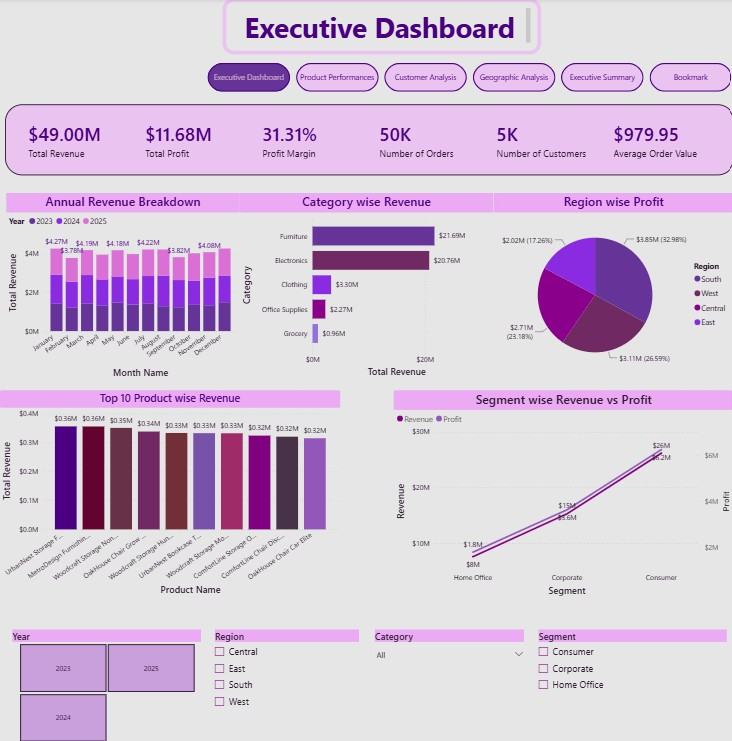

What the dashboard file says about the page in this screenshot:
{"tool":"powerbi","page":{"name":"Executive Dashboard","canvas":[1280,1300],"ordinal":0},"visuals":[{"type":"cardVisual","fields":{"Data":["Sales.Total Revenue","Sales.Total Profit","Sales.Average Profit Margin","Sales.Number of Orders","Customer.Number of Customers","Sales.Average Order Value"]},"box":[8.7,185.2,1272.1,124.2],"z":0},{"type":"columnChart","title":"Annual Revenue Breakdown","fields":{"Category":["Date Table.Month Name"],"Y":["Sales.Total Revenue"],"Series":["Date Table.Year"]},"box":[10,340,407.1,327.1],"z":1000},{"type":"barChart","title":"Category wise Revenue ","fields":{"Category":["Product.Category"],"Y":["Sales.Total Revenue"]},"box":[418.6,340,441.4,327.1],"z":2000},{"type":"pieChart","title":"Region wise Profit","fields":{"Category":["Customer.Region"],"Y":["Sales.Total Profit"]},"box":[861.4,340,418.6,327.1],"z":3000},{"type":"clusteredColumnChart","title":"Top 10 Product wise Revenue ","fields":{"Y":["Sales.Total Revenue"],"Category":["Product.Product Name"]},"box":[0,684.3,592.9,362.9],"z":4000},{"type":"lineChart","title":"Segment wise Revenue vs Profit","fields":{"Category":["Customer.Segment"],"Y":["Sales.Total Revenue"],"Y2":["Sales.Total Profit"]},"box":[686.9,684,592.9,362.9],"z":5000},{"type":"slicer","fields":{"Values":["Date Table.Year"]},"box":[8.3,1095.4,354.3,207.1],"z":6000},{"type":"slicer","fields":{"Values":["Customer.Region"]},"box":[362.6,1095.4,277.1,207.1],"z":7000},{"type":"slicer","fields":{"Values":["Product.Category"]},"box":[640,1096,286,206.7],"z":8000},{"type":"slicer","fields":{"Values":["Customer.Segment"]},"box":[926,1095.3,354,207.3],"z":9000},{"type":"pageNavigator","box":[361.6,113.3,919.2,50.1],"z":10000},{"type":"textbox","box":[387.7,0,555.5,98],"z":11000}]}

Visuals, with their boxes in screenshot pixels (x1, y1, x2, y2), scaled from the page's 1280x1300 canvas onto the 732x741 screenshot:
cardVisual - Sales.Total Revenue x Sales.Total Profit: bbox=(5, 106, 731, 176)
"Annual Revenue Breakdown" columnChart: bbox=(6, 194, 239, 380)
"Category wise Revenue " barChart: bbox=(239, 194, 492, 380)
"Region wise Profit" pieChart: bbox=(493, 194, 731, 380)
"Top 10 Product wise Revenue " clusteredColumnChart: bbox=(0, 390, 339, 597)
"Segment wise Revenue vs Profit" lineChart: bbox=(393, 390, 731, 597)
slicer - Date Table.Year: bbox=(5, 624, 207, 740)
slicer - Customer.Region: bbox=(207, 624, 366, 740)
slicer - Product.Category: bbox=(366, 625, 530, 740)
slicer - Customer.Segment: bbox=(530, 624, 731, 740)
pageNavigator: bbox=(207, 65, 731, 93)
textbox: bbox=(222, 0, 539, 56)
